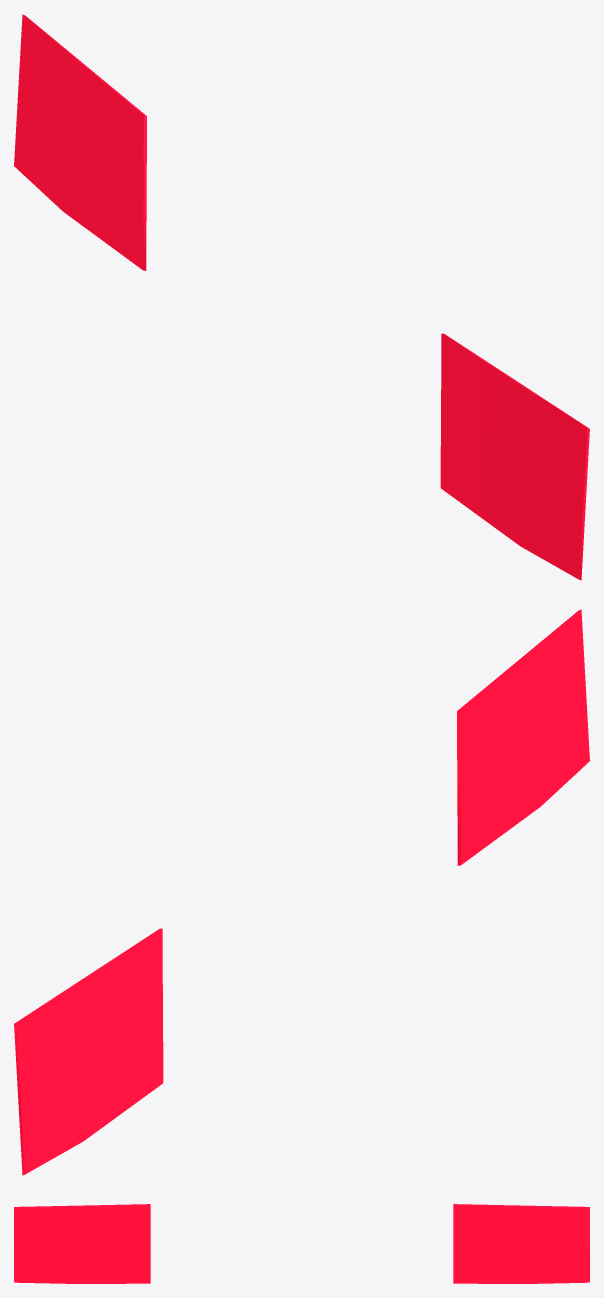
File: car-brake.dae
3 renders of one model, top to bottom at view 1: azimuth 30°, elevation 25°; view 2: azimuth 150°, elevation 25°; view 3: azimuth 270°, elevation 25°, orthographic. The views are drawn at different scales.
Parts seen in each view (by area): view 1: SedanBrake; view 2: SedanBrake; view 3: SedanBrake.
Boxes of the visible parts, x1,y1,x2,y2 form: SedanBrake: (14,14,589,580); SedanBrake: (14,609,589,1175); SedanBrake: (14,1204,589,1283).
Size of the model in its own units: 0.0108 by 0.6604 by 0.1006.
